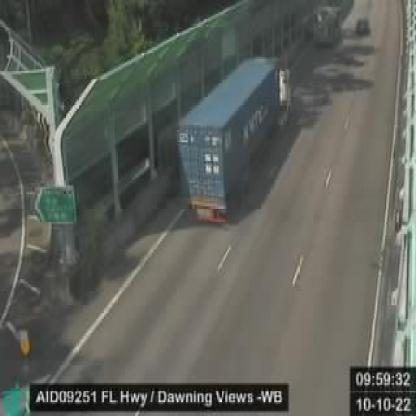Car: (355, 18, 371, 36)
Truck: (173, 55, 291, 222), (312, 1, 346, 44)
